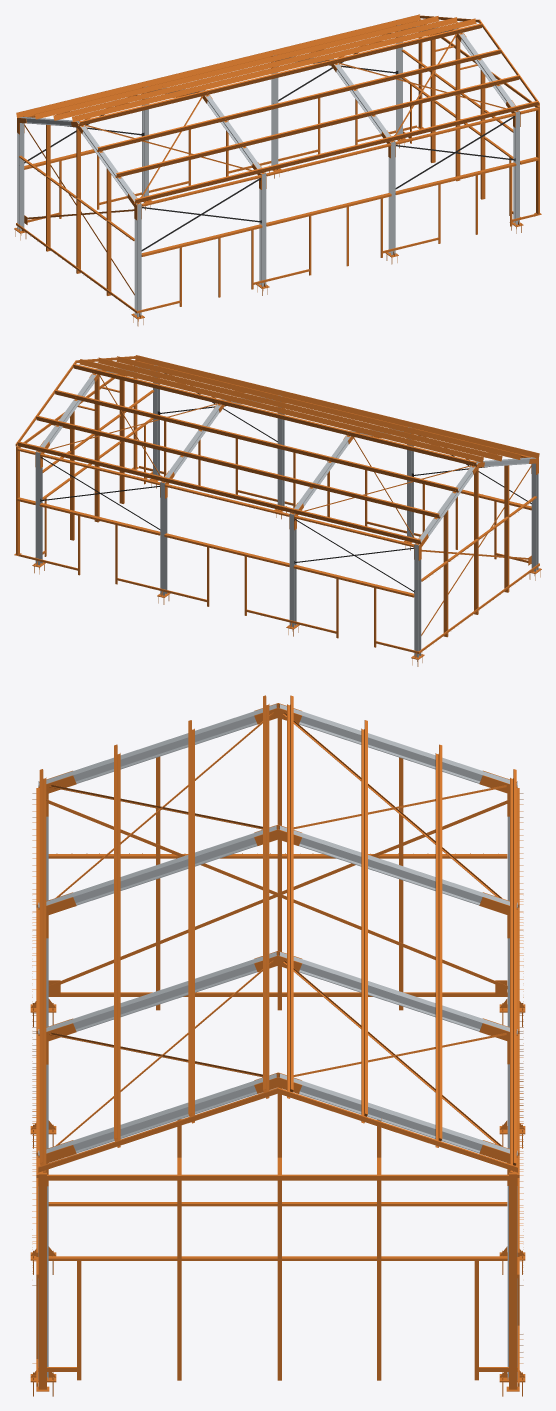
The model's file is Nave1_ESTRUCTURA_v2_vanos.dae.
The picture shows the model from 3 angles, top to bottom: view 1: azimuth 30°, elevation 25°; view 2: azimuth 150°, elevation 25°; view 3: azimuth 270°, elevation 25°; orthographic projection. The views are drawn at different scales.
Parts seen in each view (by area): view 1: Columnas (×8), Correa A4, Correa A2, Correa A3, Correa A1, Correa B1, Correa B3, Correa B4, Correa B2, Dinteles (×4), Poste piñón fondo z=-37.86, Poste piñón frente z=-40.71 (+12 smaller); view 2: Columnas (×8), Correa B3, Correa B1, Correa B2, Correa B4, Correa A1, Correa A2, Correa A3, Correa A4, Dinteles (×4), Poste piñón fondo z=-37.86, Poste piñón frente z=-40.71 (+12 smaller); view 3: Dinteles (×16), Dintel de cenefa frontal, Correa B1, Correa A2, Correa B2, Correa A3, Correa A1, Correa B4, Correa A4, Correa B3, Poste esquina A, Poste esquina B (+11 smaller).
Part boxes in pixels (x1=…): Columnas (×8): x1=19, y1=30, x2=519, y2=316; Correa A4: x1=72, y1=18, x2=476, y2=121; Correa A2: x1=35, y1=16, x2=439, y2=119; Correa A3: x1=53, y1=17, x2=457, y2=120; Correa A1: x1=16, y1=14, x2=420, y2=117; Correa B1: x1=134, y1=100, x2=538, y2=203; Correa B3: x1=96, y1=49, x2=501, y2=151; Correa B4: x1=78, y1=23, x2=482, y2=126; Correa B2: x1=115, y1=75, x2=519, y2=177; Dinteles (×4): x1=78, y1=32, x2=518, y2=204; Poste piñón fondo z=-37.86: x1=106, y1=168, x2=111, y2=295; Poste piñón frente z=-40.71: x1=455, y1=36, x2=460, y2=181; Columnas (×8): x1=35, y1=371, x2=536, y2=657; Correa B3: x1=97, y1=357, x2=502, y2=461; Correa B1: x1=135, y1=355, x2=539, y2=458; Correa B2: x1=116, y1=356, x2=520, y2=459; Correa B4: x1=79, y1=359, x2=483, y2=462; Correa A1: x1=17, y1=441, x2=421, y2=544; Correa A2: x1=36, y1=415, x2=440, y2=518; Correa A3: x1=54, y1=389, x2=459, y2=492; Correa A4: x1=73, y1=363, x2=477, y2=466; Dinteles (×4): x1=36, y1=373, x2=477, y2=544; Poste piñón fondo z=-37.86: x1=504, y1=465, x2=509, y2=592; Poste piñón frente z=-40.71: x1=94, y1=377, x2=99, y2=522; Dinteles (×16): x1=46, y1=704, x2=509, y2=1153; Dintel de cenefa frontal: x1=47, y1=1174, x2=508, y2=1180; Correa B1: x1=39, y1=769, x2=46, y2=1172; Correa A2: x1=435, y1=744, x2=442, y2=1147; Correa B2: x1=114, y1=744, x2=120, y2=1147; Correa A3: x1=361, y1=720, x2=367, y2=1123; Correa A1: x1=510, y1=769, x2=516, y2=1172; Correa B4: x1=263, y1=695, x2=269, y2=1098; Correa A4: x1=287, y1=695, x2=293, y2=1098; Correa B3: x1=188, y1=720, x2=194, y2=1123; Poste esquina A: x1=509, y1=1172, x2=517, y2=1389; Poste esquina B: x1=38, y1=1172, x2=46, y2=1389.
Size of the model in its own units: 22.04 by 11.6 by 8.46.
